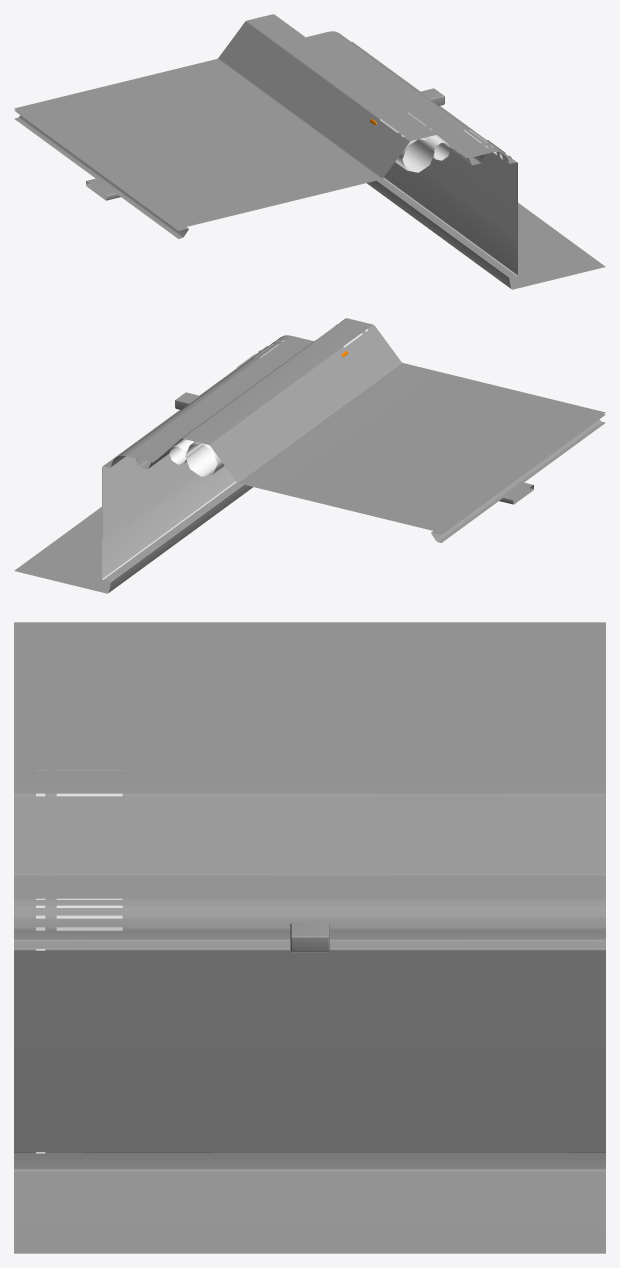
File: RoofSide.fbx
3 views of the same model, one above another, from view 1: azimuth 30°, elevation 25°; view 2: azimuth 150°, elevation 25°; view 3: azimuth 270°, elevation 25° (orthographic). The views are drawn at different scales.
Parts seen in each view (by area): view 1: Plane.013, StylizedHardSurface_TrimDecals_004.003_projected.001, StylizedHardSurface_TrimDecals_004.001_projected.001, StylizedHardSurface_TrimDecals_004.002_projected.001, Plane.014; view 2: Plane.013, StylizedHardSurface_TrimDecals_004.003_projected.001, StylizedHardSurface_TrimDecals_004.001_projected.001, StylizedHardSurface_TrimDecals_004.002_projected.001, Plane.014; view 3: Plane.013, StylizedHardSurface_TrimDecals_011.001.
Boxes of the visible parts, x1,y1,x2,y2 form: Plane.013: [14, 14, 605, 289]; StylizedHardSurface_TrimDecals_004.003_projected.001: [383, 162, 517, 275]; StylizedHardSurface_TrimDecals_004.001_projected.001: [422, 153, 517, 239]; StylizedHardSurface_TrimDecals_004.002_projected.001: [449, 150, 517, 203]; Plane.014: [395, 135, 450, 172]; Plane.013: [14, 318, 605, 593]; StylizedHardSurface_TrimDecals_004.003_projected.001: [102, 466, 236, 579]; StylizedHardSurface_TrimDecals_004.001_projected.001: [102, 455, 197, 543]; StylizedHardSurface_TrimDecals_004.002_projected.001: [102, 454, 170, 507]; Plane.014: [169, 439, 224, 476]; Plane.013: [14, 622, 605, 1253]; StylizedHardSurface_TrimDecals_011.001: [56, 770, 122, 948].
Bounding box in the file's own units: 300 × 116 × 200.
